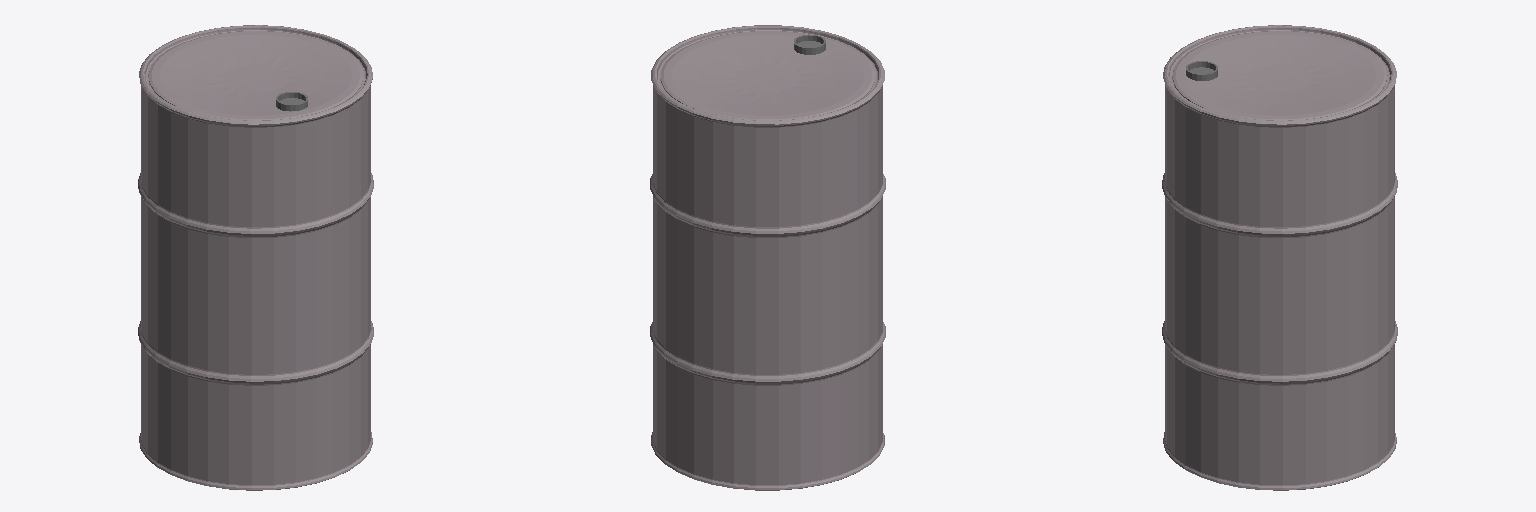
The model's file is barrel.obj.
The picture shows the model from 3 angles: view 1: azimuth 30°, elevation 25°; view 2: azimuth 150°, elevation 25°; view 3: azimuth 270°, elevation 25°; orthographic projection.
Visible parts, largest first — view 1: Mesh_Mesh_Circle; view 2: Mesh_Mesh_Circle; view 3: Mesh_Mesh_Circle.
Part boxes in pixels (x1,y1,x2,y2): Mesh_Mesh_Circle: (138,25,373,490); Mesh_Mesh_Circle: (650,25,885,490); Mesh_Mesh_Circle: (1162,25,1397,490).
Bounding box in the file's own units: 6.07 × 10.55 × 6.07.